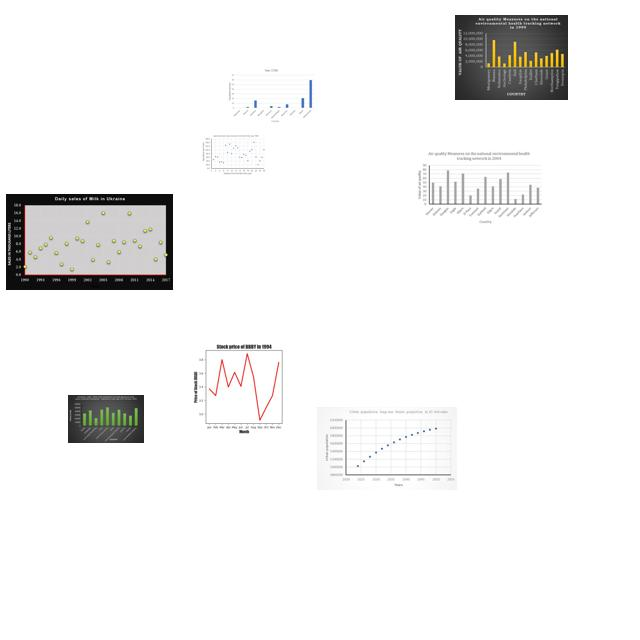Graph: (6, 194, 173, 290), (179, 339, 306, 434), (317, 407, 457, 490), (414, 149, 544, 226), (455, 15, 568, 100), (227, 68, 315, 123), (68, 395, 144, 443), (201, 134, 266, 175)
